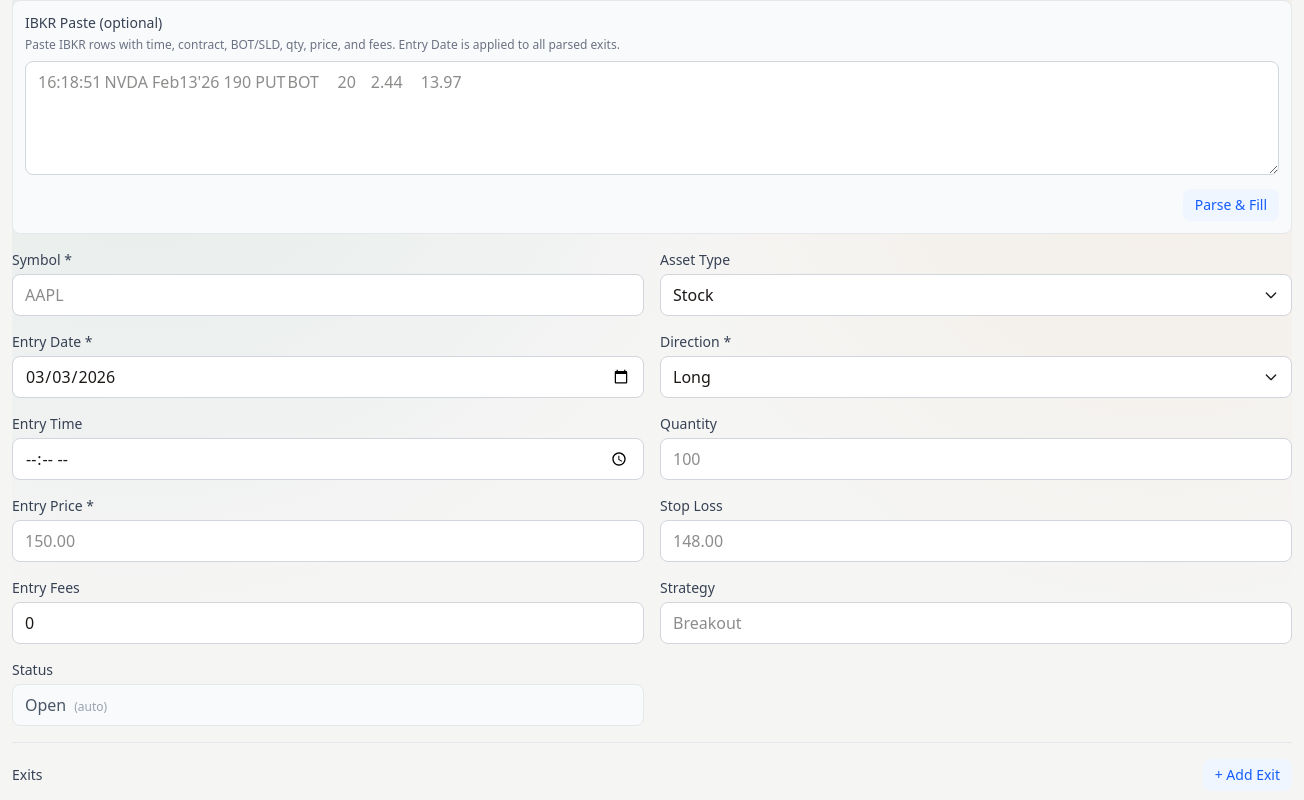
TradeForm › direction selection › allows selecting short direction
The width and height of the screenshot is (1304, 800).
// Click on Direction dropdown to open it
Click the button "Long". click: (692, 377)
box: [660,356,1292,398]
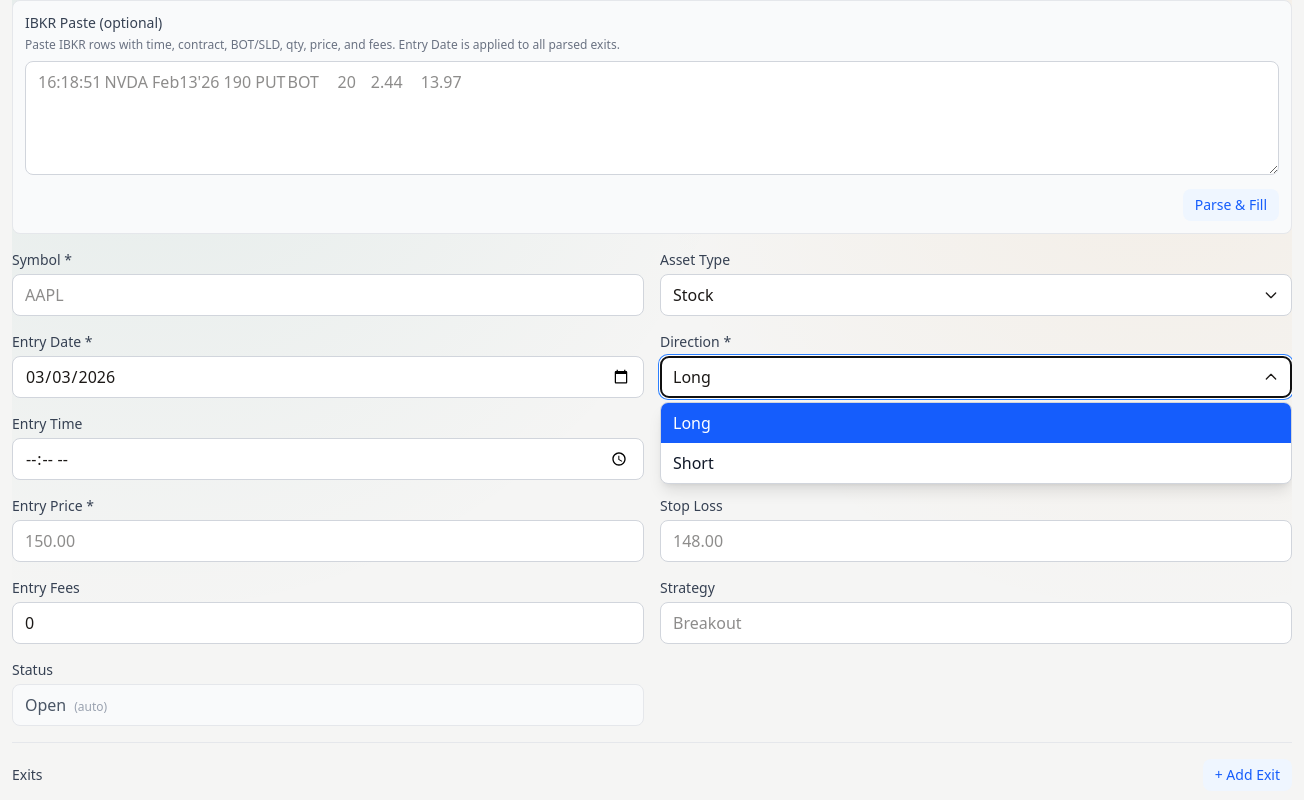
// Select Short option
Click the button "Short". click: (693, 463)
box: [661,443,1291,483]
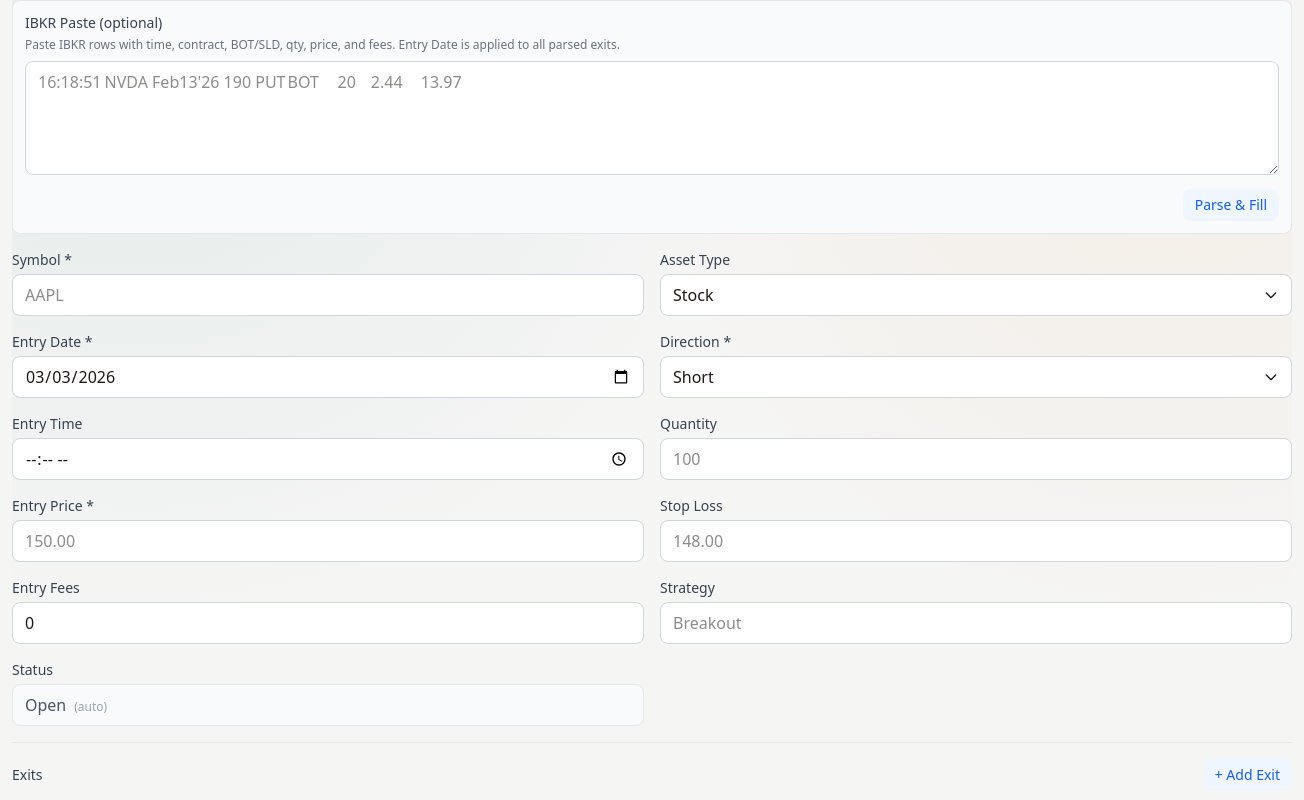
Result: the text "Short" is shown at [673,365,714,389]
